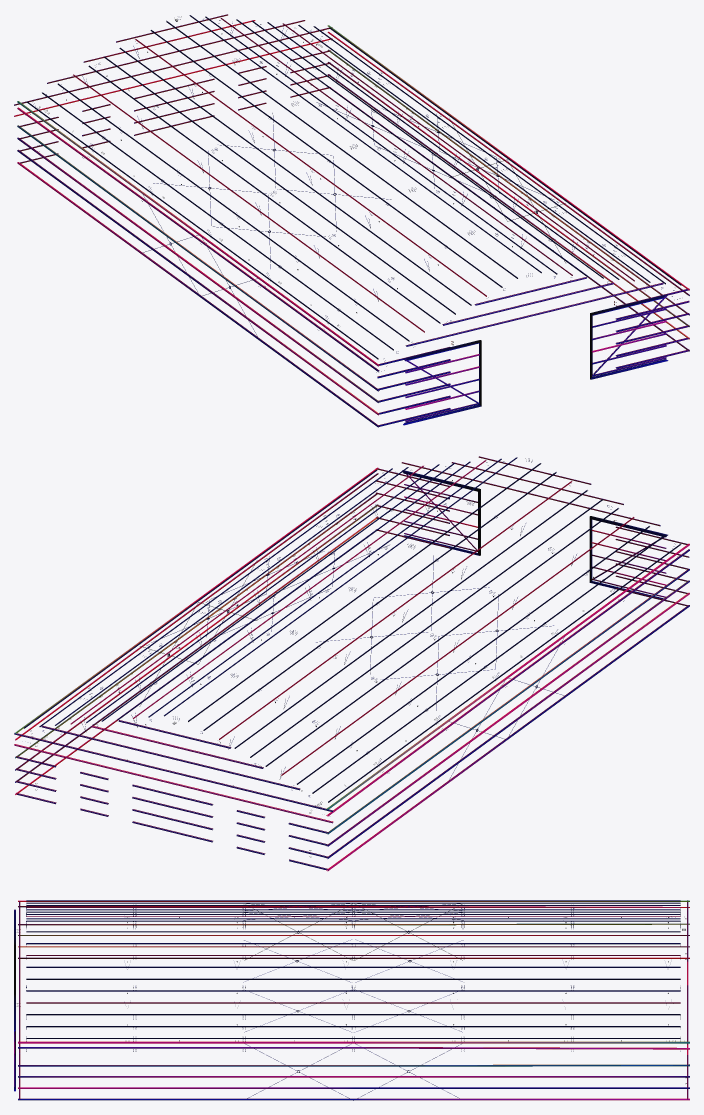
Rendered from Hanger_LightMetal.fbx.
3 renders of one model, top to bottom at view 1: azimuth 30°, elevation 25°; view 2: azimuth 150°, elevation 25°; view 3: azimuth 270°, elevation 25°, orthographic. The views are drawn at different scales.
Visible parts, largest first — view 1: Hanger_LightMetal; view 2: Hanger_LightMetal; view 3: Hanger_LightMetal.
Boxes of the visible parts, bbox=[...] form: Hanger_LightMetal: bbox=[14, 14, 689, 427]; Hanger_LightMetal: bbox=[14, 456, 689, 871]; Hanger_LightMetal: bbox=[14, 900, 689, 1100].
Size of the model in its own units: 4082 by 1407 by 8075.
